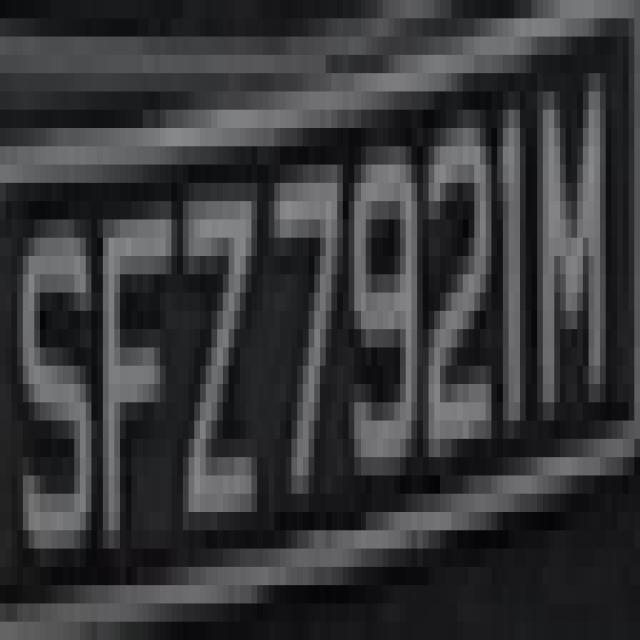1: (486, 73, 537, 512)
2: (417, 73, 486, 476)
7: (257, 128, 343, 567)
9: (337, 110, 423, 548)
F: (92, 201, 172, 567)
M: (526, 55, 617, 475)
S: (12, 183, 97, 567)
Z: (177, 146, 263, 549)
